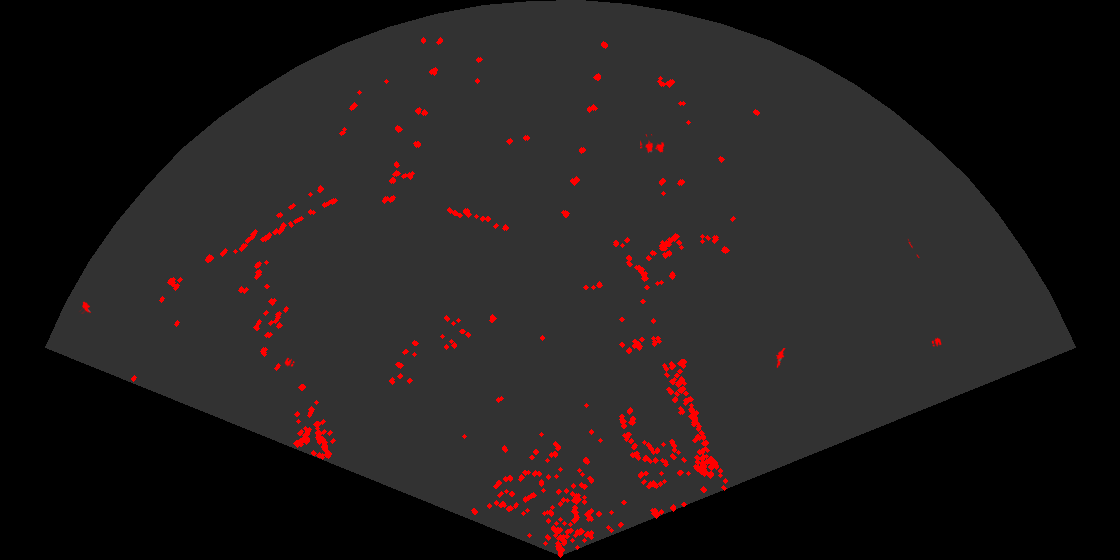AUV: (78, 300, 93, 314)
ball: (930, 336, 943, 348), (283, 356, 296, 368)
cage: (640, 134, 666, 155)
chain: (906, 238, 920, 258)
frogman: (774, 348, 787, 368)
